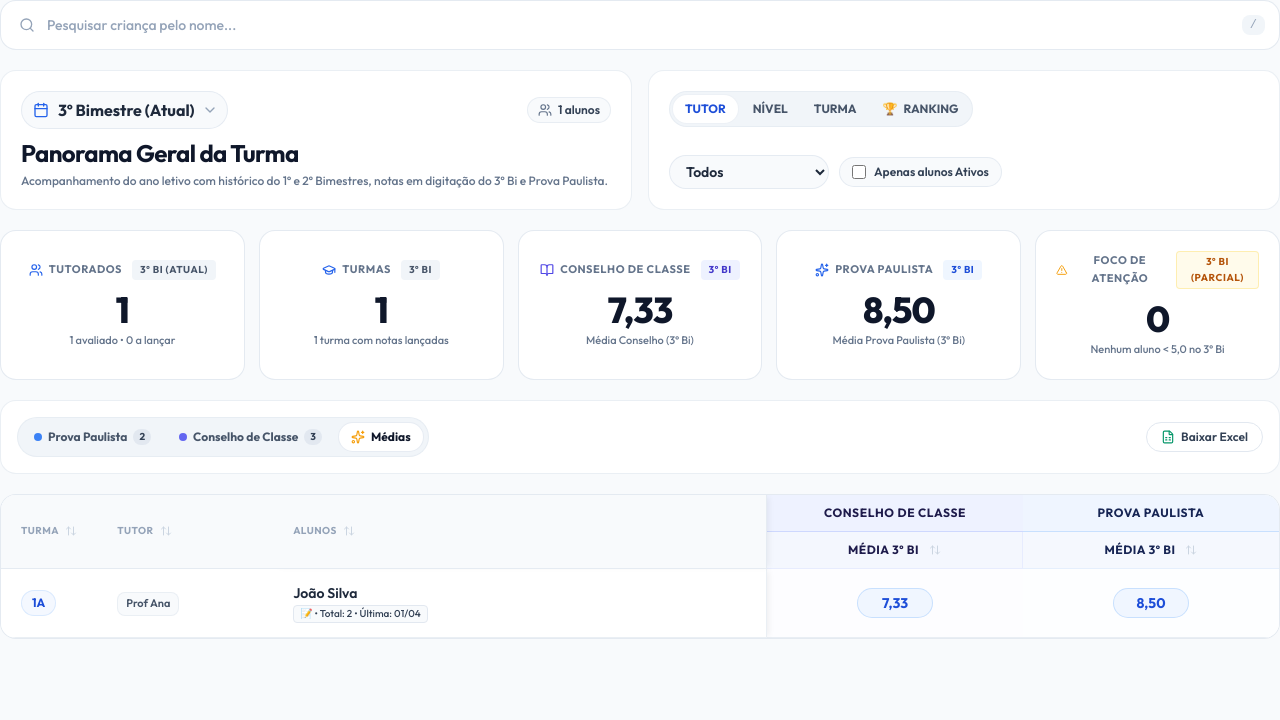
Test: Dashboard — Botões de Visão: Prova Paulista, Conselho de Classe e Médias › retorna para somente as médias ao clicar no botão Médias
Note: Ativa Prova Paulista
Click the button "Prova Paulista 2" at x=93, y=437, box [22,423,163,451]
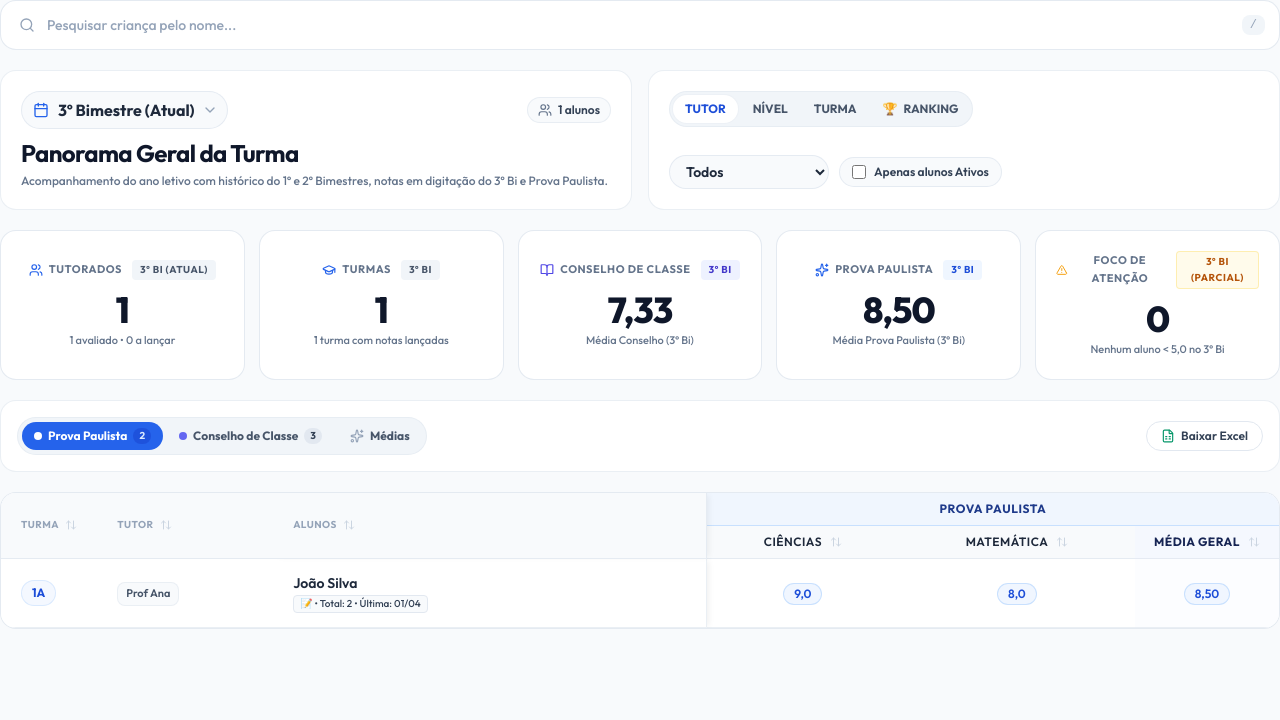
expect the text "CIÊNCIAS" is shown: met, box [764,534,822,550]
Note: Clica em Médias
Click the button "Médias" at x=380, y=436, box [338,422,422,450]
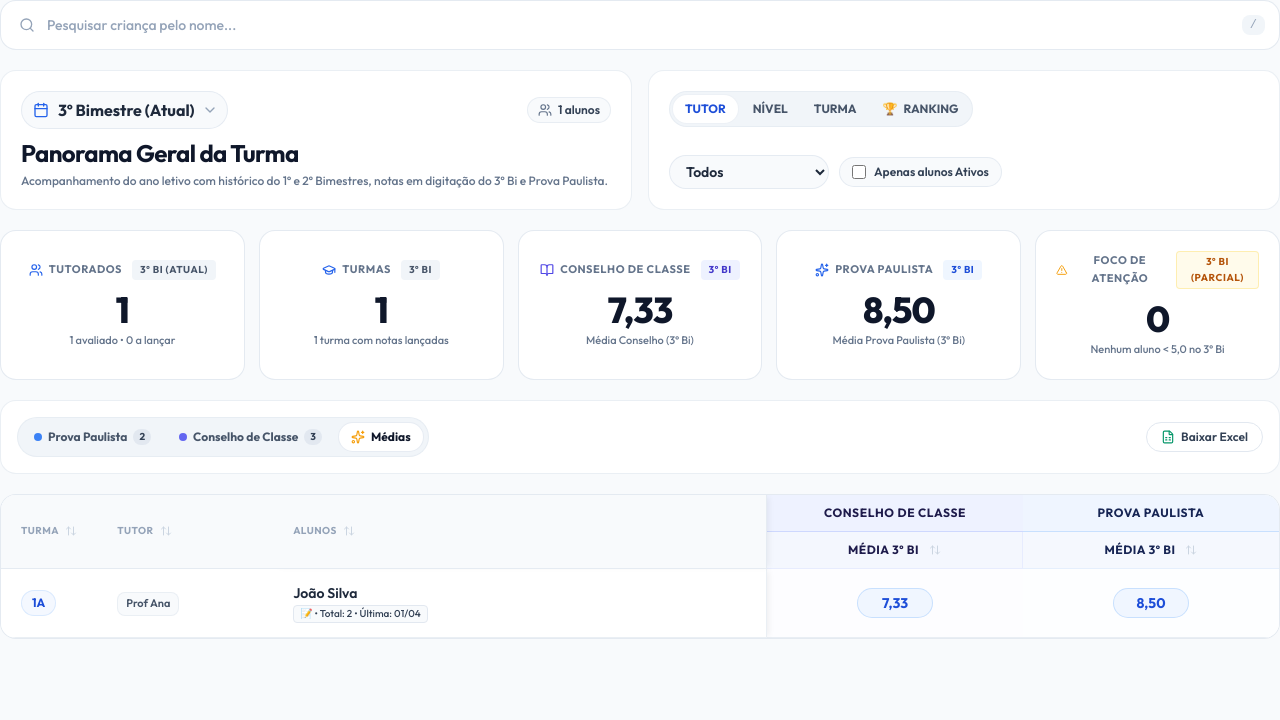
expect the text "CIÊNCIAS" is gone: met
